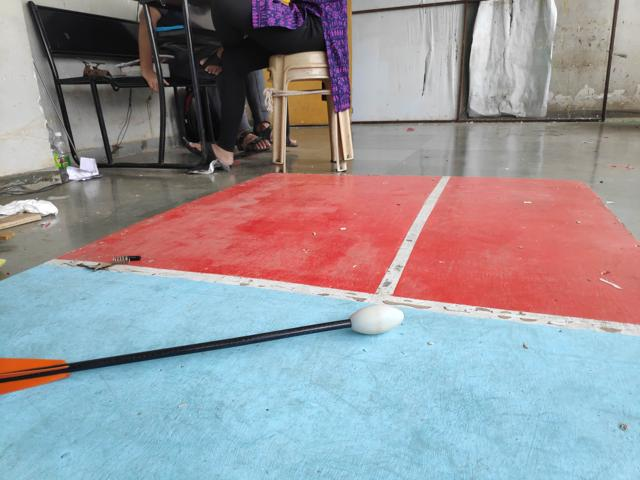Head: (346, 301, 406, 338)
Tail: (1, 354, 71, 397)
